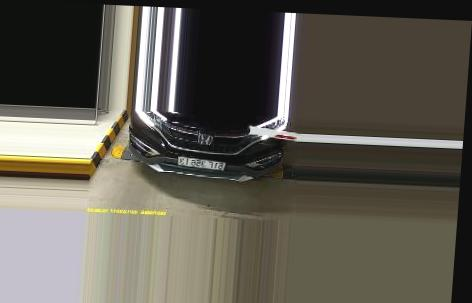License_Plate: (171, 154, 229, 174)
